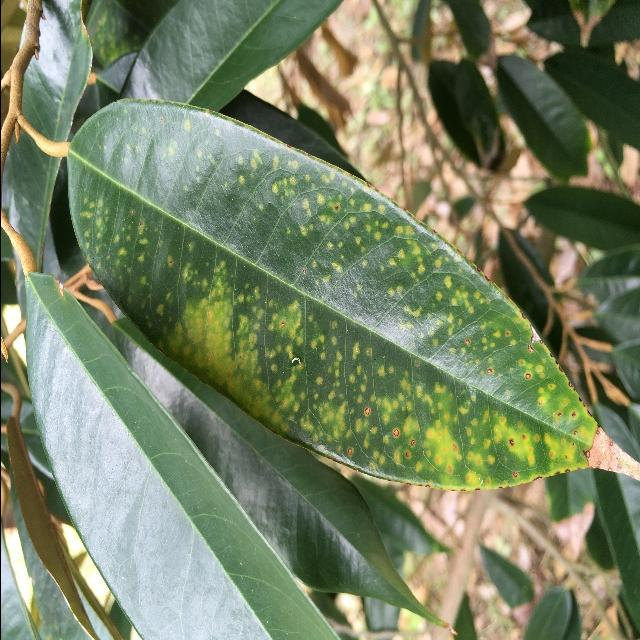Leaf Spot: (57, 89, 640, 497)
